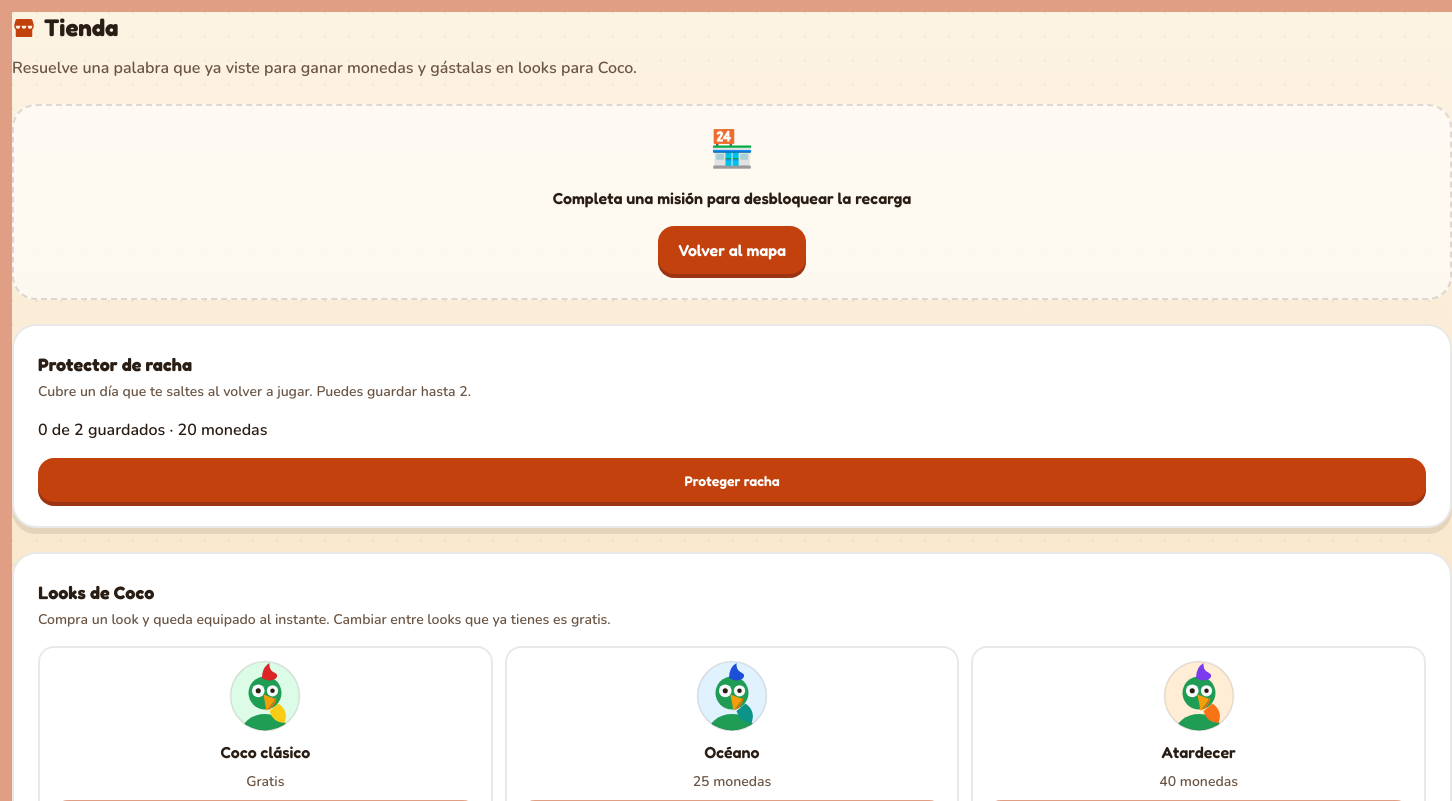
ShopSession › buys a freeze with coins and no completed missions
Click the button "Proteger racha" at (732, 480), box top-left (38, 458), bottom-right (1426, 502)
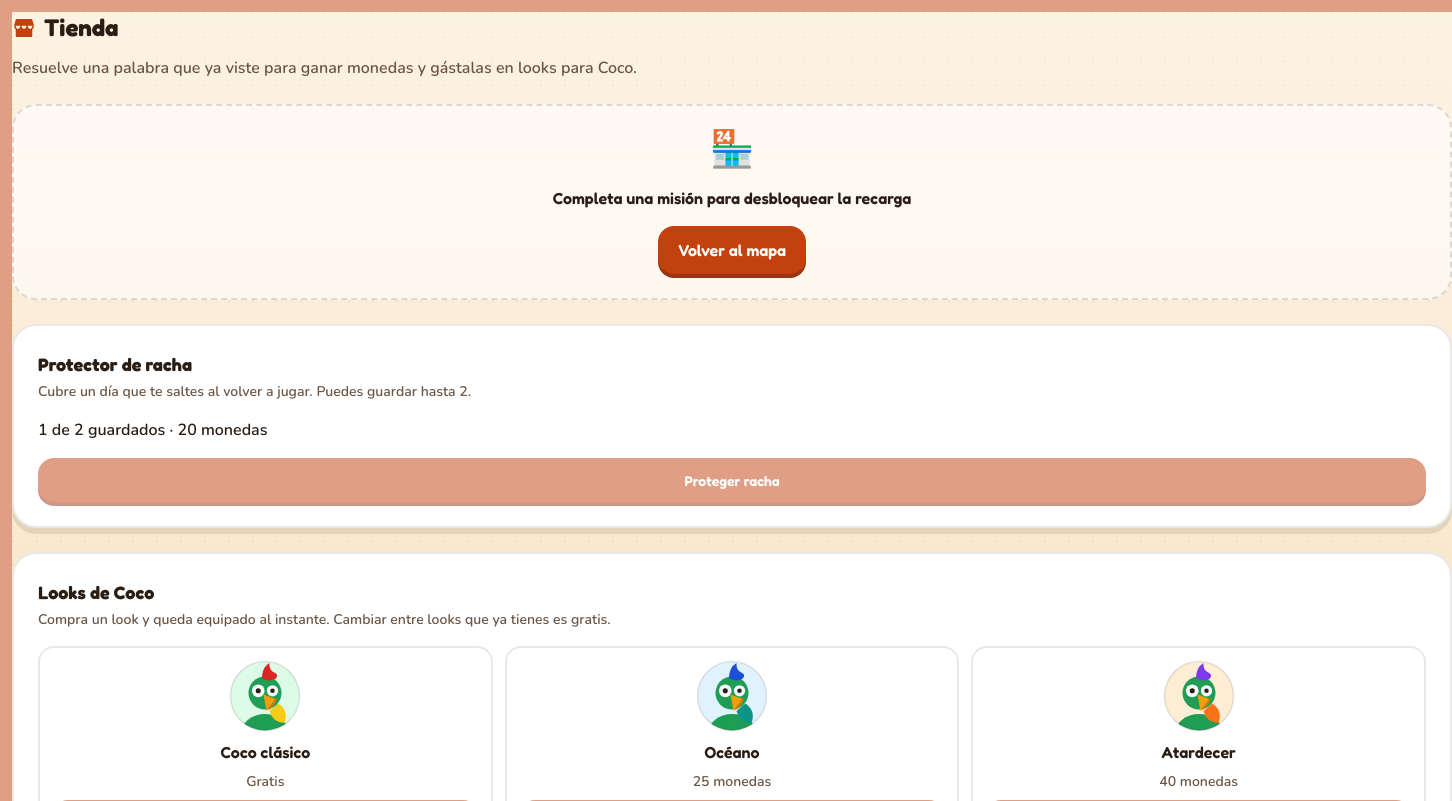
Check: the button "Proteger racha" is disabled, box top-left (38, 458), bottom-right (1426, 502)
